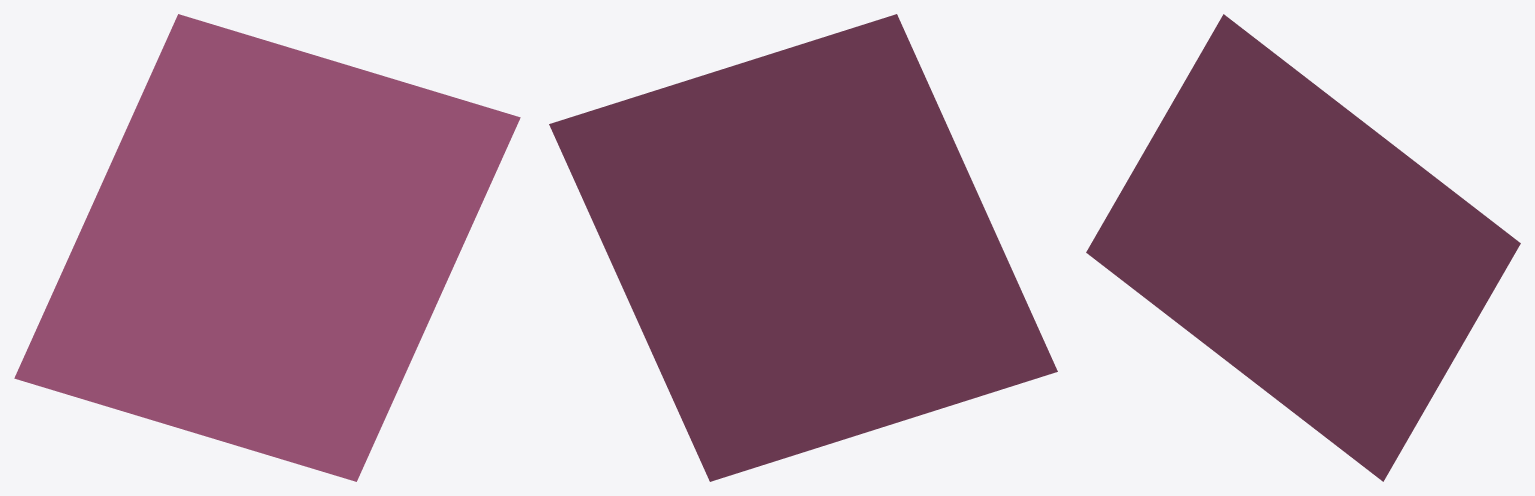
The model's file is 126Top.glb.
3 renders of one model, left to right at view 1: azimuth 30°, elevation 25°; view 2: azimuth 150°, elevation 25°; view 3: azimuth 330°, elevation 25°, orthographic. The views are drawn at different scales.
Bounding box in the file's own units: 298 × 287 × 6.06.
